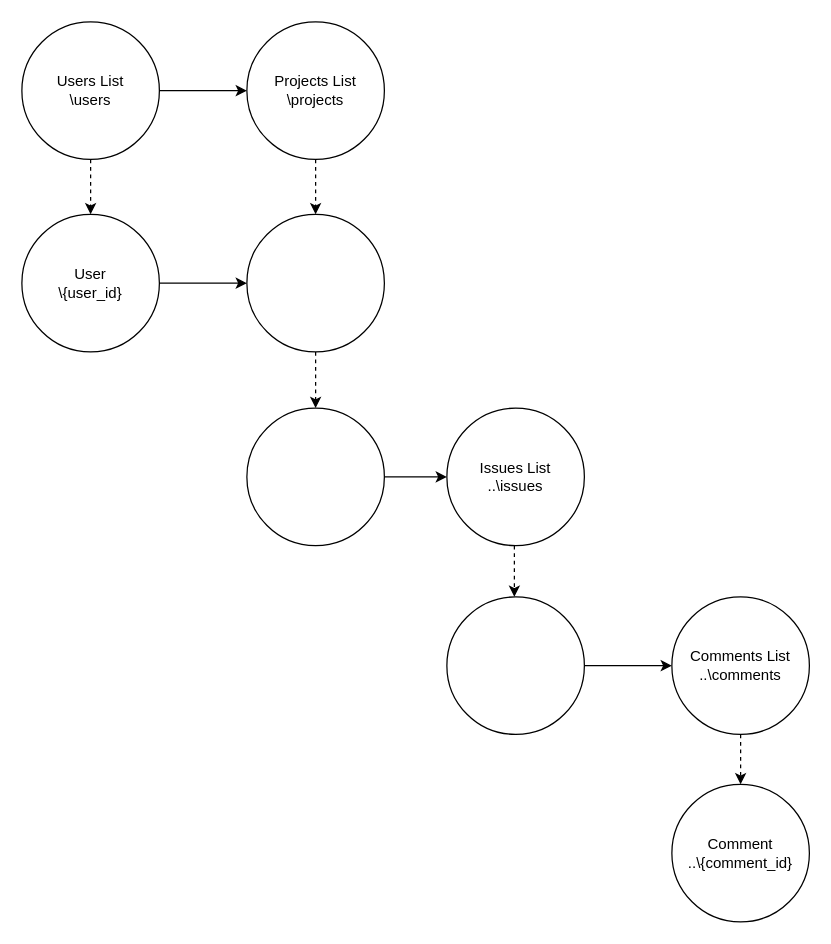
Image size: 831x944. Some labels were removed from this diagram. Here are the shapes that lost their labels. From the top down, the centre of each, then its label:
the point at 315,282: User Projects List ..\projects
the point at 315,476: Project ..\{project_id}
the point at 515,665: Issue ..\{issue_id}
